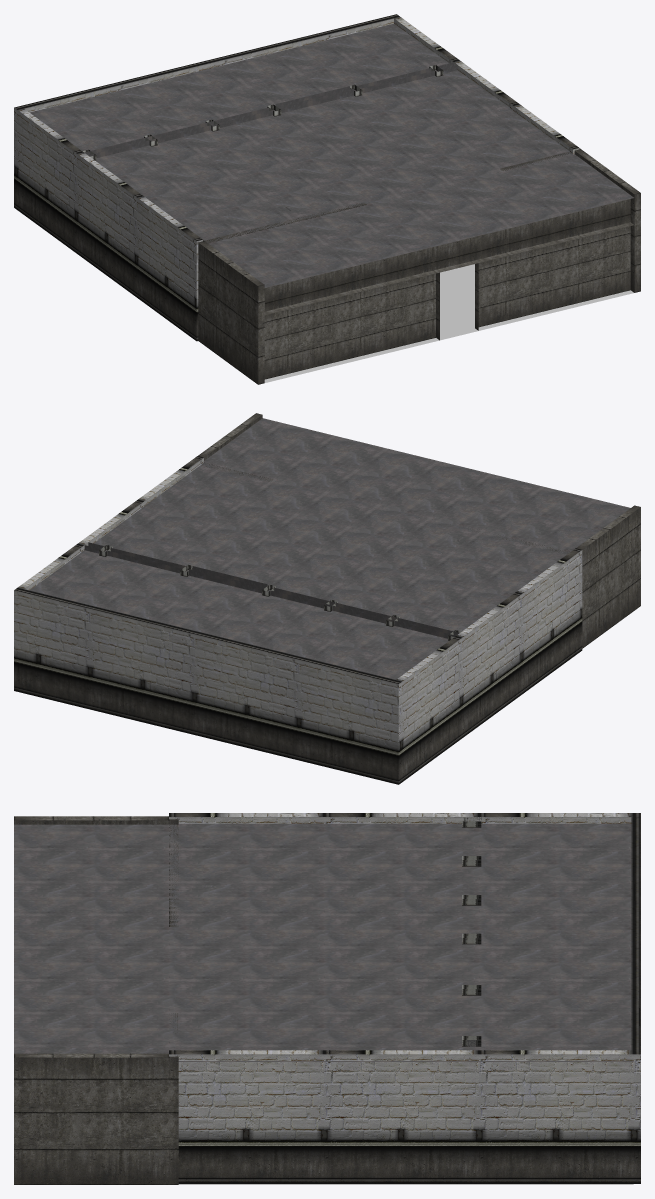
The model's file is HC_cont1_049.gltf.
The picture shows the model from 3 angles, top to bottom: view 1: azimuth 30°, elevation 25°; view 2: azimuth 150°, elevation 25°; view 3: azimuth 270°, elevation 25°; orthographic projection. The views are drawn at different scales.
Parts seen in each view (by area): view 1: HC_cont1_049.002; view 2: HC_cont1_049.002; view 3: HC_cont1_049.002.
Part boxes in pixels (box(x1,y1,x2,y2)): HC_cont1_049.002: box(14, 14, 640, 384); HC_cont1_049.002: box(14, 413, 640, 784); HC_cont1_049.002: box(14, 813, 640, 1184).
Bounding box in the file's own units: 18.96 × 4.8 × 20.72.
